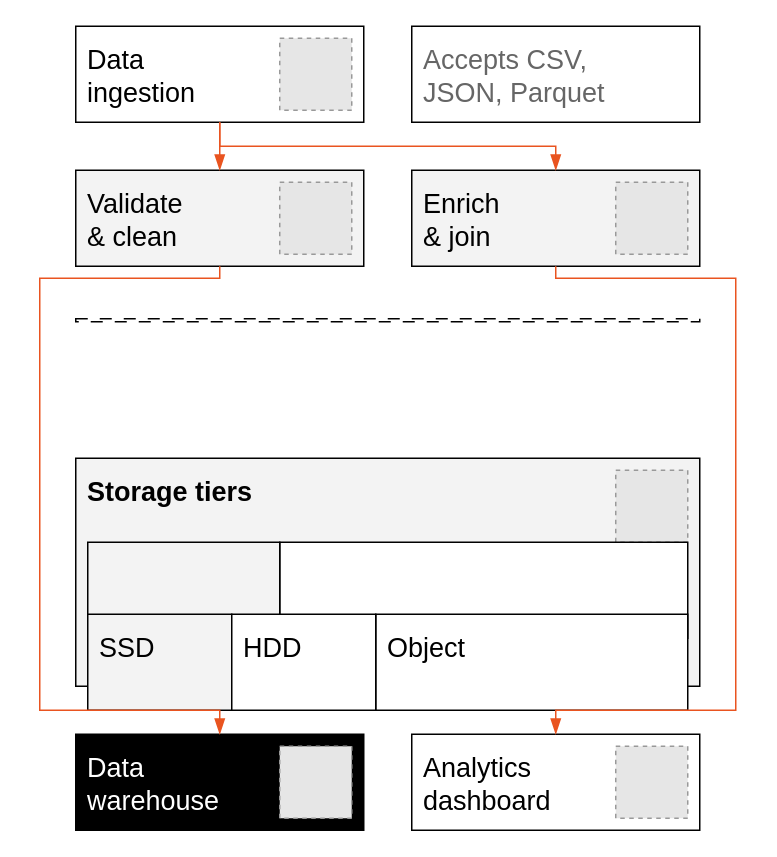
Image size: 777x857. Some labels were removed from this diagram. Grey dashed boxes stand in for pictures. Each missing label, with the centre of its shape:
"Archive" belongs at point (483, 589).
"Hot" belongs at point (183, 589).
